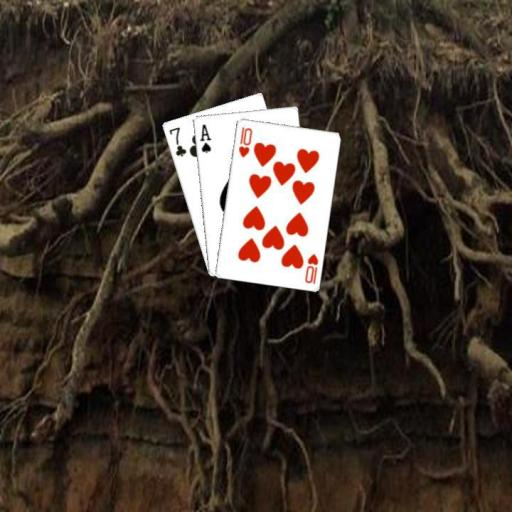10H: (236, 124, 254, 159), (302, 250, 320, 285)
7C: (166, 124, 188, 158)
AS: (196, 121, 212, 154)
